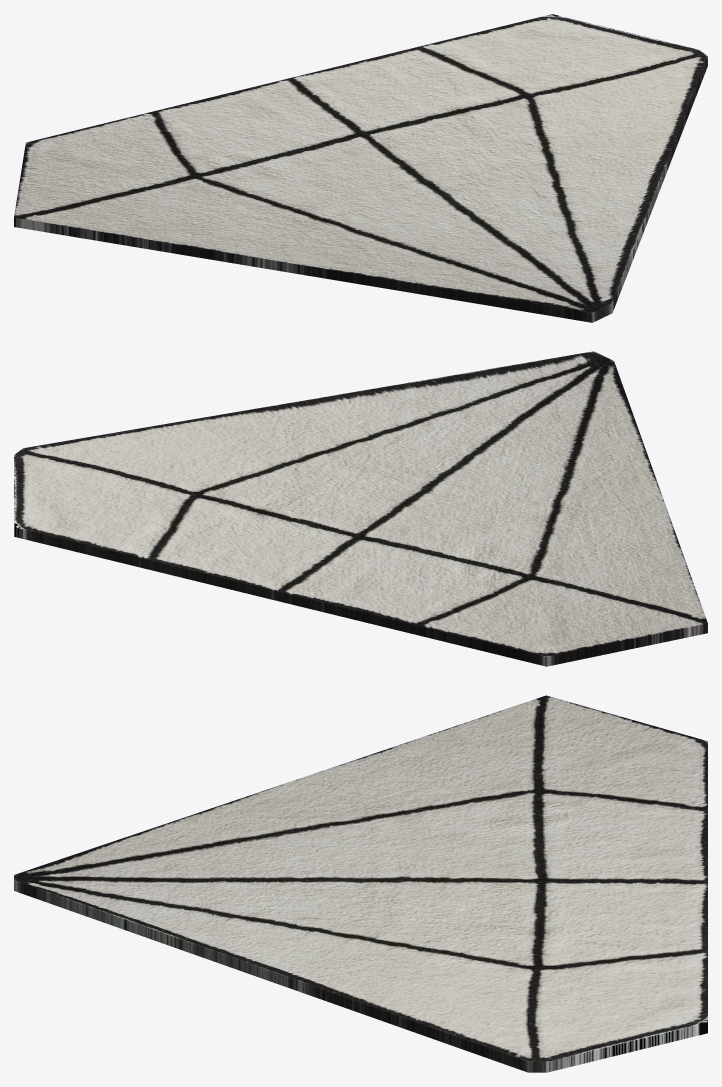
3 renders of one model, top to bottom at view 1: azimuth 30°, elevation 25°; view 2: azimuth 150°, elevation 25°; view 3: azimuth 270°, elevation 25°, orthographic. The views are drawn at different scales.
Parts seen in each view (by area): view 1: _CL_LINE; view 2: _CL_LINE; view 3: _CL_LINE.
Part boxes in pixels (left/top/right/bottom): _CL_LINE: left=14, top=14, right=707, bottom=322; _CL_LINE: left=14, top=351, right=707, bottom=666; _CL_LINE: left=14, top=695, right=707, bottom=1072.
Bounding box in the file's own units: 1.5 × 0.03 × 1.2.
1 material, 1 textured.
